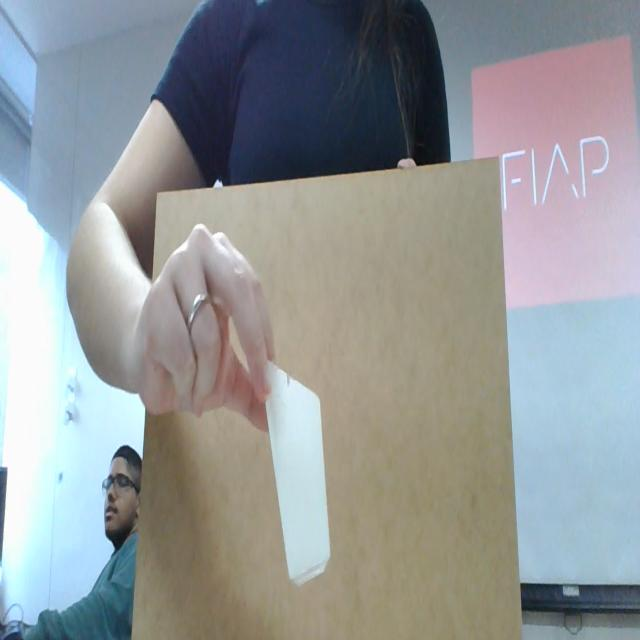erva_daninha: (264, 364, 330, 587)
